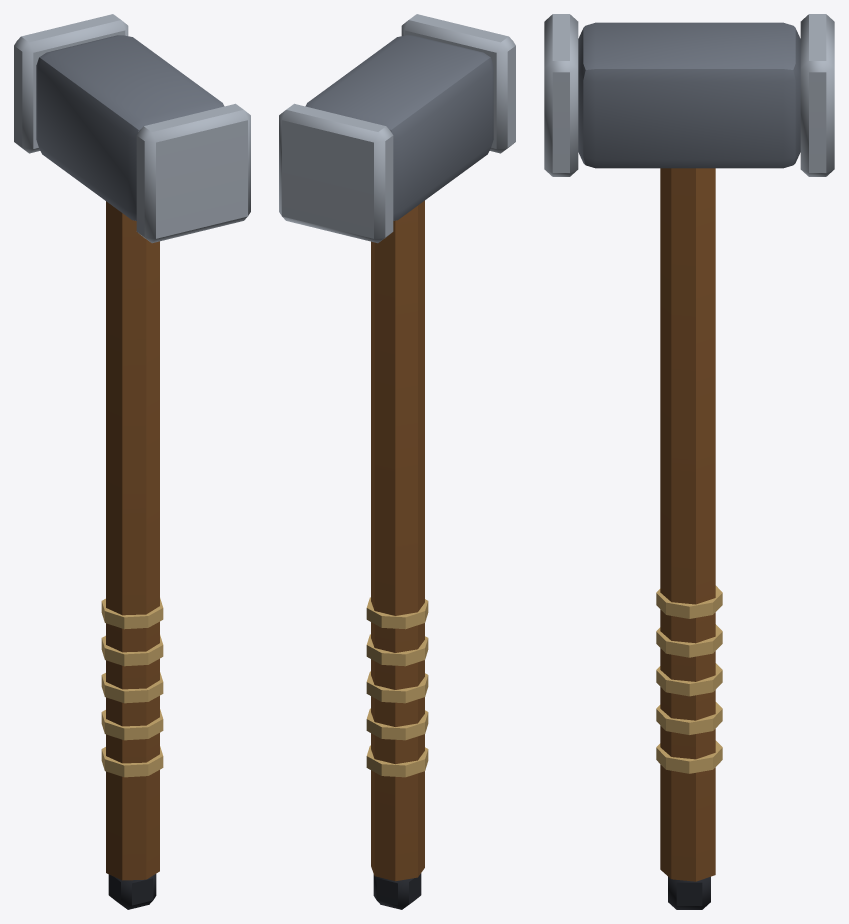
Rendered from item_hammer.glb.
The picture shows the model from 3 angles, left to right: view 1: azimuth 30°, elevation 25°; view 2: azimuth 150°, elevation 25°; view 3: azimuth 270°, elevation 25°; orthographic projection. The views are drawn at different scales.
Parts seen in each view (by area): view 1: item_hammer, item_hammer_detail; view 2: item_hammer, item_hammer_detail; view 3: item_hammer, item_hammer_detail.
Part boxes in pixels (<box>): item_hammer: <box>14,14,250,909</box>; item_hammer_detail: <box>101,598,163,777</box>; item_hammer: <box>279,14,515,909</box>; item_hammer_detail: <box>366,597,428,777</box>; item_hammer: <box>544,14,834,909</box>; item_hammer_detail: <box>656,585,722,773</box>.
Bounding box in the file's own units: 0.15 × 1.12 × 0.34.
